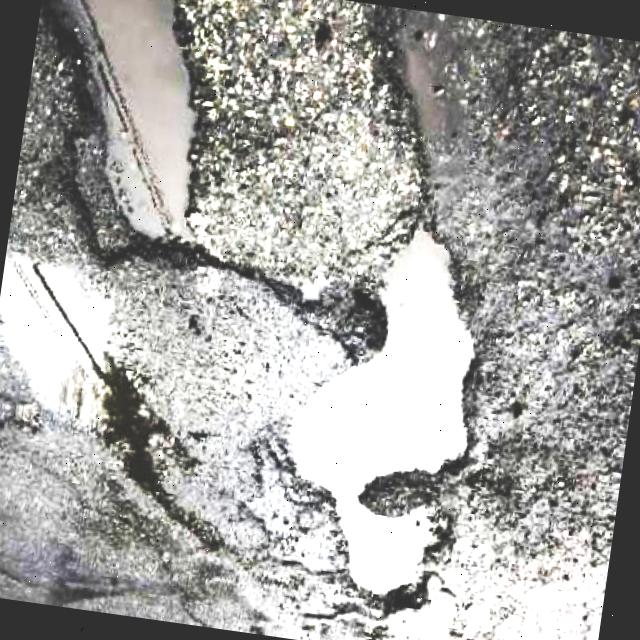pothole: (255, 188, 506, 618), (6, 0, 244, 278), (0, 243, 194, 488), (356, 5, 472, 164)
